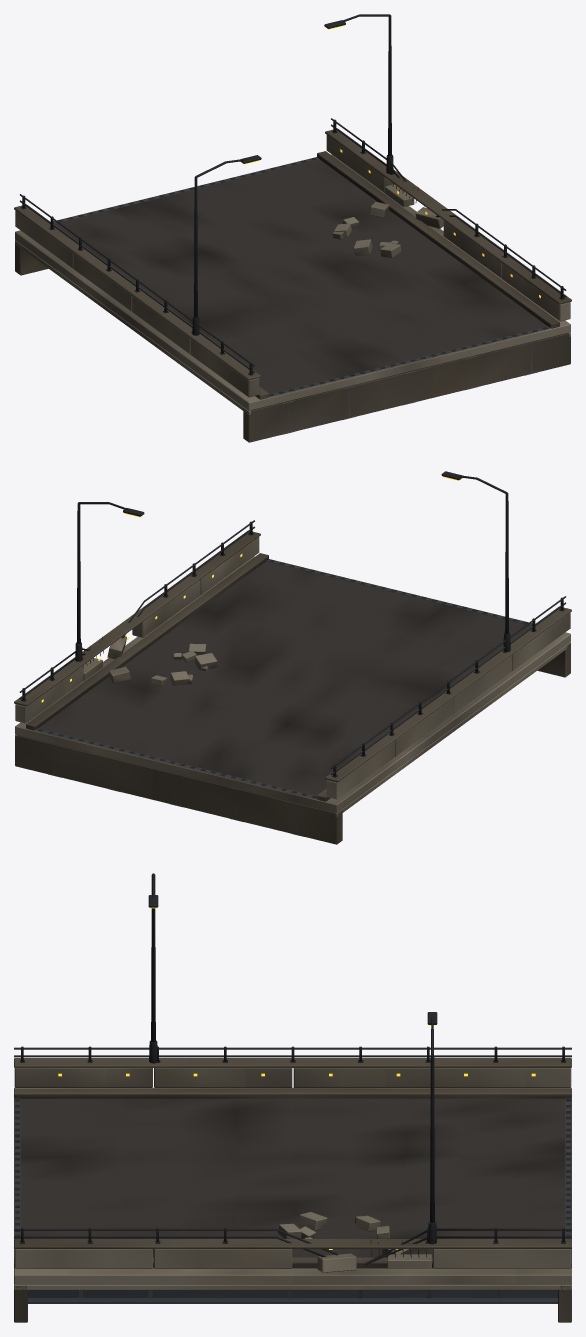
The model's file is bridge_span_20m_damaged.glb.
3 renders of one model, top to bottom at view 1: azimuth 30°, elevation 25°; view 2: azimuth 150°, elevation 25°; view 3: azimuth 270°, elevation 25°, orthographic. The views are drawn at different scales.
Parts seen in each view (by area): view 1: road_surface, concrete_dark, concrete, metal_dark, metal_bare; view 2: road_surface, concrete_dark, concrete, metal_dark, metal_bare; view 3: road_surface, concrete, concrete_dark, metal_dark, steel_beam, metal_bare.
Boxes of the visible parts, x1,y1,x2,y2 form: road_surface: (54,159,547,394); concrete_dark: (14,128,571,442); concrete: (15,135,570,414); metal_dark: (19,14,566,396); metal_bare: (53,157,551,397); road_surface: (38,561,531,796); concrete_dark: (14,530,571,844); concrete: (15,537,570,816); metal_dark: (19,471,566,798); metal_bare: (34,559,532,799); road_surface: (20,1098,565,1257); concrete: (14,1068,571,1289); concrete_dark: (14,1058,571,1322); metal_dark: (14,873,571,1264); steel_beam: (28,1290,557,1303); metal_bare: (14,1098,571,1257).
Size of what is drawn, in the model's own units: 16.26 by 10.84 by 20.
